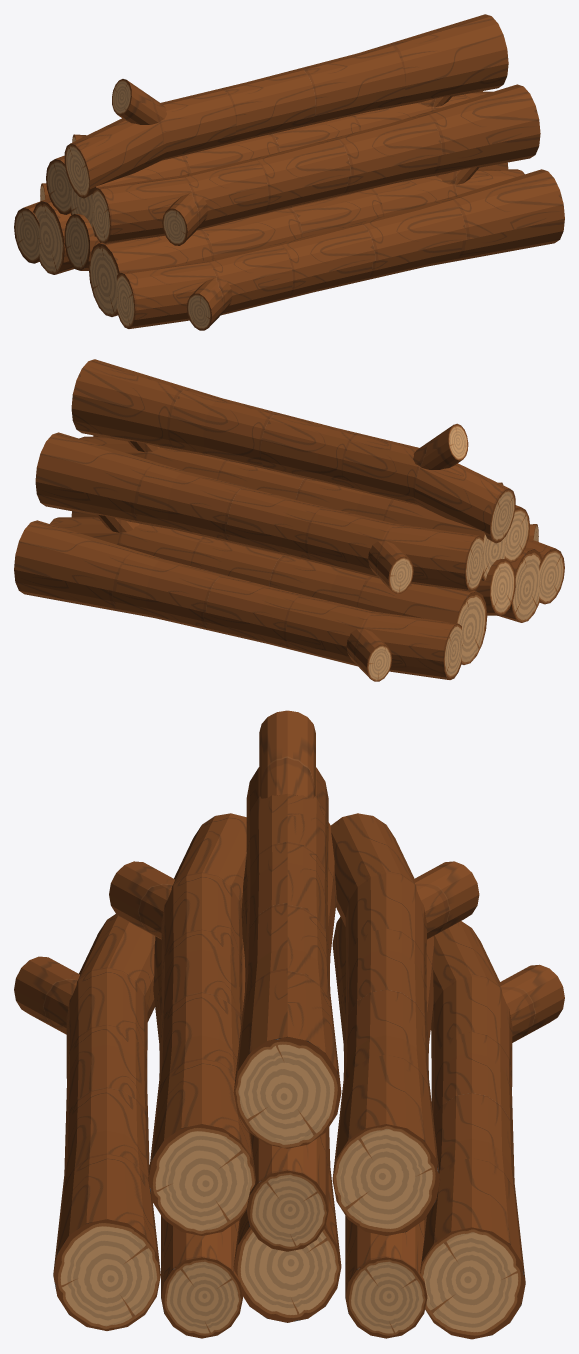
Rendered from Obstacle.fbx.
3 views of the same model, one above another, from view 1: azimuth 30°, elevation 25°; view 2: azimuth 150°, elevation 25°; view 3: azimuth 270°, elevation 25° (orthographic). The views are drawn at different scales.
Parts seen in each view (by area): view 1: Cylinder.012, Cylinder.003, Cylinder.010, Cylinder.001, Cylinder.009, Cylinder.007, Cylinder.002, Cylinder.008, Cylinder.011; view 2: Cylinder.012, Cylinder.008, Cylinder.011, Cylinder.007, Cylinder.009, Cylinder.001, Cylinder.002, Cylinder.003, Cylinder.010; view 3: Cylinder.011, Cylinder.003, Cylinder.010, Cylinder.008, Cylinder.012, Cylinder.007, Cylinder.009, Cylinder.001, Cylinder.002.
Boxes of the visible parts, x1=… form: Cylinder.012: x1=64, y1=14, x2=508, y2=198; Cylinder.003: x1=117, y1=169, x2=564, y2=330; Cylinder.010: x1=92, y1=84, x2=540, y2=245; Cylinder.001: x1=88, y1=167, x2=524, y2=316; Cylinder.009: x1=70, y1=91, x2=492, y2=236; Cylinder.007: x1=33, y1=199, x2=74, y2=274; Cylinder.002: x1=64, y1=162, x2=508, y2=270; Cylinder.008: x1=14, y1=183, x2=49, y2=263; Cylinder.011: x1=46, y1=91, x2=482, y2=214; Cylinder.012: x1=71, y1=359, x2=515, y2=543; Cylinder.008: x1=14, y1=520, x2=461, y2=681; Cylinder.011: x1=35, y1=432, x2=483, y2=593; Cylinder.007: x1=50, y1=515, x2=487, y2=664; Cylinder.009: x1=79, y1=436, x2=504, y2=581; Cylinder.001: x1=499, y1=547, x2=542, y2=622; Cylinder.002: x1=71, y1=511, x2=515, y2=615; Cylinder.003: x1=526, y1=524, x2=564, y2=604; Cylinder.010: x1=93, y1=435, x2=529, y2=562; Cylinder.011: x1=331, y1=813, x2=479, y2=1235; Cylinder.003: x1=14, y1=914, x2=160, y2=1330; Cylinder.010: x1=109, y1=813, x2=255, y2=1235; Cylinder.008: x1=420, y1=921, x2=564, y2=1339; Cylinder.012: x1=233, y1=710, x2=341, y2=1148; Cylinder.007: x1=332, y1=916, x2=433, y2=1338; Cylinder.009: x1=241, y1=822, x2=336, y2=1251; Cylinder.001: x1=153, y1=936, x2=245, y2=1338; Cylinder.002: x1=233, y1=1127, x2=341, y2=1322.
Size of the model in its own units: 413 by 213 by 289.
